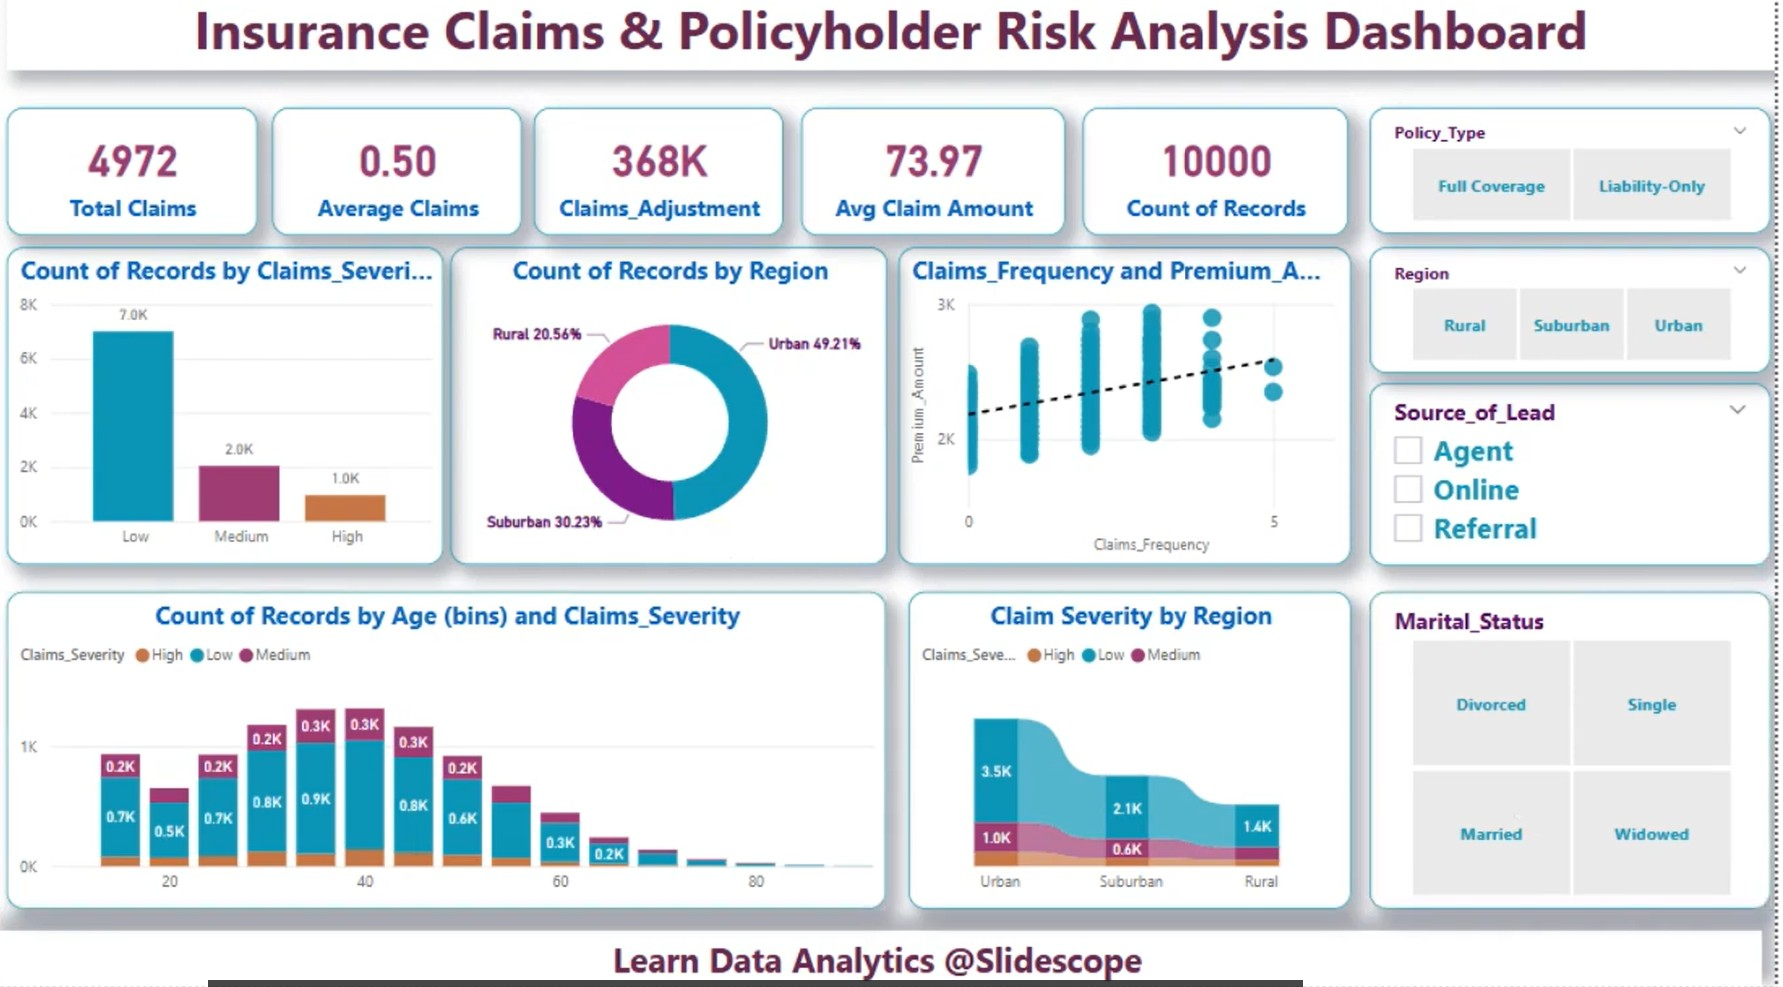

The page's visual inventory and layout, read from the dashboard file:
{"tool":"powerbi","page":{"name":"Insurance Claim & Policyholder Risk Analysis","canvas":[1280,720],"ordinal":1},"visuals":[{"type":"textbox","box":[10,0,1269.9,57.2],"z":0},{"type":"cardVisual","fields":{"Data":["Measures1.Total Claims"]},"box":[11.2,74.6,230.1,98.3],"z":1000},{"type":"cardVisual","fields":{"Data":["Measures1.Average Claim"]},"box":[268.7,74.6,230.1,98.3],"z":2000},{"type":"cardVisual","fields":{"Data":["Measures1.Claim Adjustment"]},"box":[526.1,74.7,230.1,98.3],"z":3000},{"type":"cardVisual","fields":{"Data":["Measures1.Avg Claim Amount"]},"box":[783.6,74.7,230.1,98.3],"z":4000},{"type":"cardVisual","fields":{"Data":["Measures1.Count of Records"]},"box":[1041,74.6,230.1,98.3],"z":5000},{"type":"columnChart","title":"Count of Records by Claims_Severity","fields":{"Category":["synthetic_insurance_data.Claims_Severity"],"Y":["CountNonNull(synthetic_insurance_data.Index)"]},"box":[8.7,182.8,350.7,255],"z":6000},{"type":"columnChart","title":"Count of Records by Age Bin & Claim Saverity","fields":{"Y":["CountNonNull(synthetic_insurance_data.Index)"],"Series":["synthetic_insurance_data.Claims_Severity"],"Category":["synthetic_insurance_data.Age (bins)"]},"box":[11.2,447.6,629.3,272.4],"z":7000},{"type":"donutChart","fields":{"Category":["synthetic_insurance_data.Region"],"Y":["CountNonNull(synthetic_insurance_data.Index)"]},"box":[368.3,182.5,328.9,255.7],"z":8000},{"type":"ribbonChart","title":"Claims_Severity By Region","fields":{"Category":["synthetic_insurance_data.Region"],"Y":["CountNonNull(synthetic_insurance_data.Index)"],"Series":["synthetic_insurance_data.Claims_Severity"]},"box":[650.5,447.6,357,272.4],"z":9000},{"type":"scatterChart","title":"Claims_Freq & Premium_Amt","fields":{"X":["synthetic_insurance_data.Claims_Frequency"],"Y":["synthetic_insurance_data.Premium_Amount"]},"box":[706.5,182.8,301,256.2],"z":10000},{"type":"slicer","fields":{"Values":["synthetic_insurance_data.Policy_Type"]},"box":[1018.6,182.8,252.5,88.3],"z":11000},{"type":"slicer","fields":{"Values":["synthetic_insurance_data.Region"]},"box":[1018.6,279.8,252.5,133.1],"z":12000},{"type":"slicer","fields":{"Values":["synthetic_insurance_data.Source_of_Lead"]},"box":[1019.9,421.6,252.5,133.1],"z":13000},{"type":"slicer","fields":{"Values":["synthetic_insurance_data.Marital_Status"]},"box":[1018.6,567,252.5,153],"z":14000},{"type":"image","box":[33.5,5.1,52.8,51.5],"z":15000}]}

Visuals, with their boxes in screenshot pixels (x1, y1, x2, y2), scaled from the page's 1280x720 canvas onto the 1783x987 screenshot:
textbox: box(14, 0, 1782, 78)
cardVisual - Measures1.Total Claims: box(16, 102, 336, 237)
cardVisual - Measures1.Average Claim: box(374, 102, 695, 237)
cardVisual - Measures1.Claim Adjustment: box(733, 102, 1053, 237)
cardVisual - Measures1.Avg Claim Amount: box(1092, 102, 1412, 237)
cardVisual - Measures1.Count of Records: box(1450, 102, 1771, 237)
"Count of Records by Claims_Severity" columnChart: box(12, 251, 501, 600)
"Count of Records by Age Bin & Claim Saverity" columnChart: box(16, 614, 892, 986)
donutChart - synthetic_insurance_data.Region x CountNonNull(synthetic_insurance_data.Index): box(513, 250, 971, 601)
"Claims_Severity By Region" ribbonChart: box(906, 614, 1403, 986)
"Claims_Freq & Premium_Amt" scatterChart: box(984, 251, 1403, 602)
slicer - synthetic_insurance_data.Policy_Type: box(1419, 251, 1771, 372)
slicer - synthetic_insurance_data.Region: box(1419, 384, 1771, 566)
slicer - synthetic_insurance_data.Source_of_Lead: box(1421, 578, 1772, 760)
slicer - synthetic_insurance_data.Marital_Status: box(1419, 777, 1771, 986)
image: box(47, 7, 120, 78)
